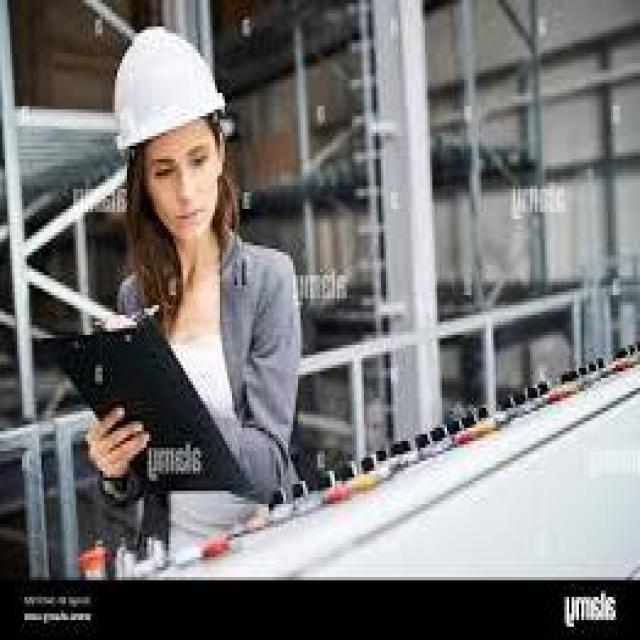safety_helmet: (105, 23, 232, 155)
